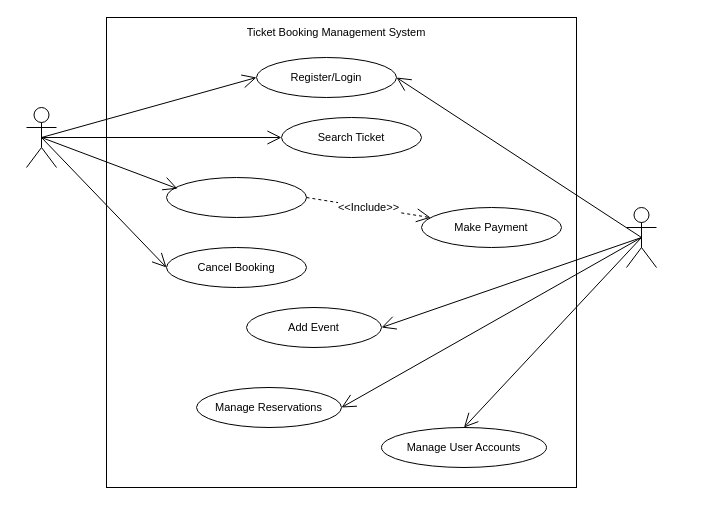
Image size: 710x505. Some labels were removed from this diagram. Each missing label, with the centre of its shape:
"Book Ticket" goes at point 236,197.
"Customer" goes at point 41,137.
"System Administrator" goes at point 641,237.
